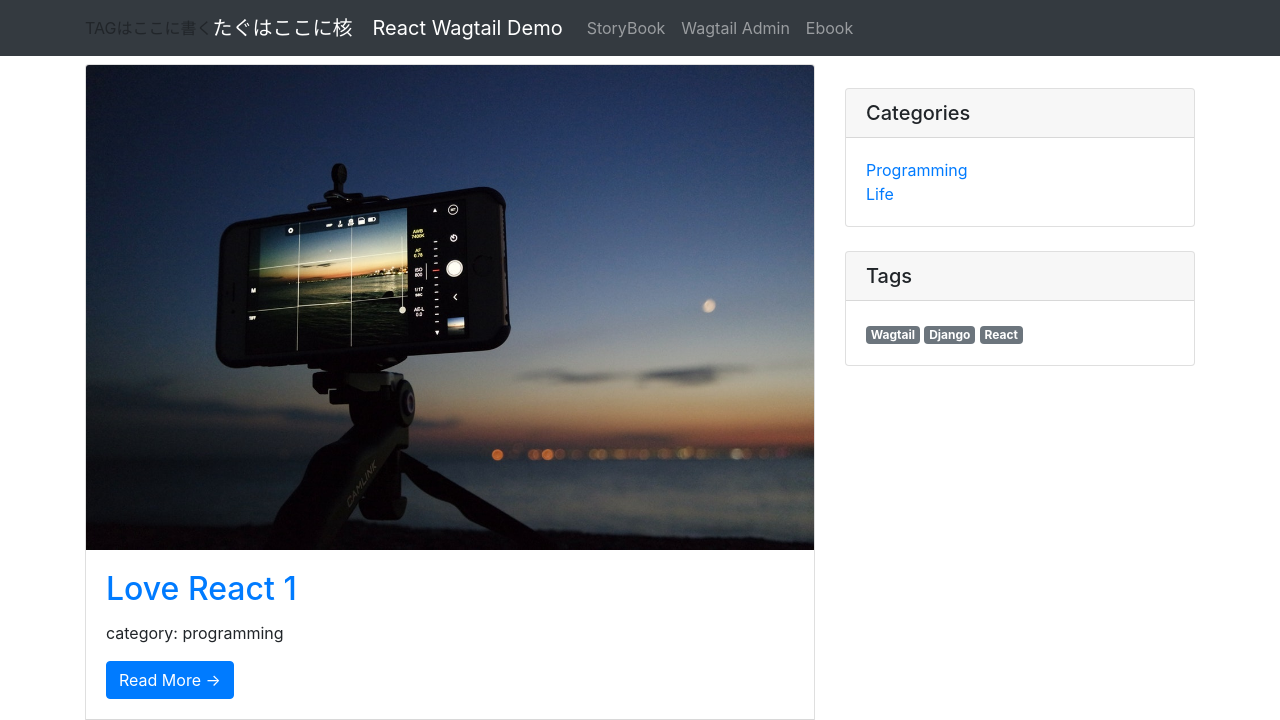
Test case: Test Tag Link
Click the link "React". click: click(1001, 333)
box: [980,323,1023,343]
(page scrolled)
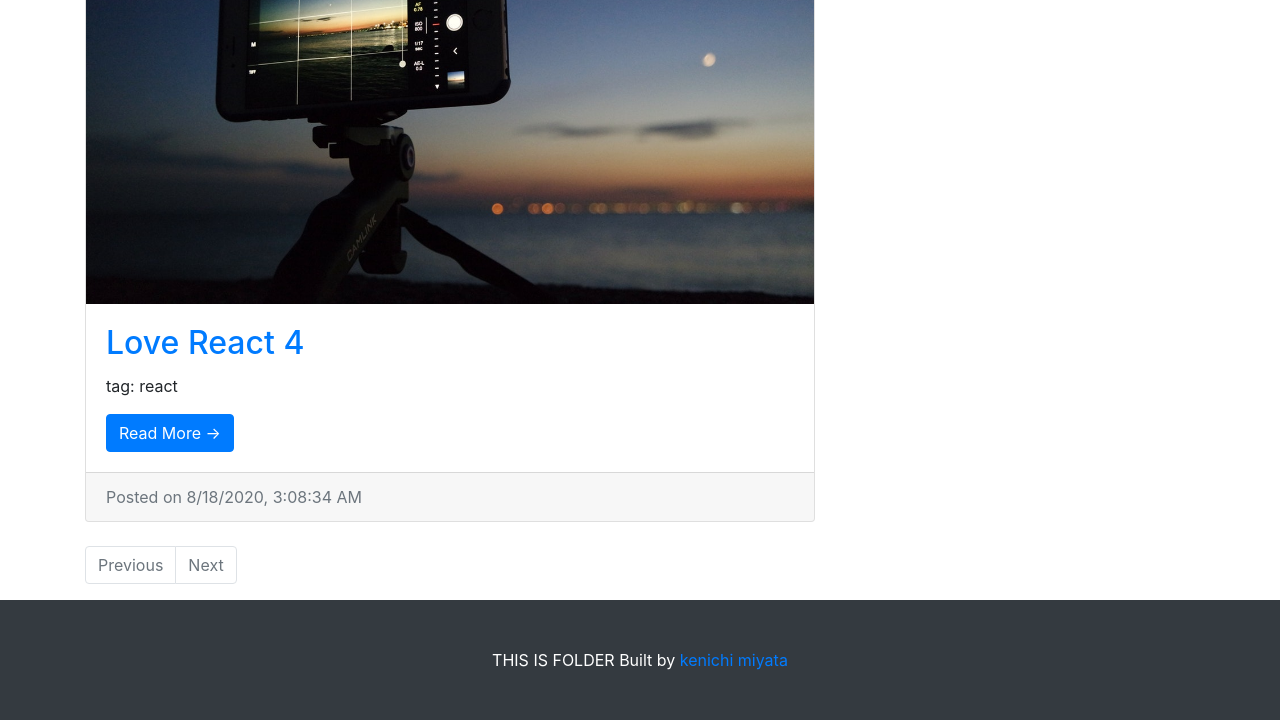
Now the link "Love React 4" is shown, box [106,323,304,362]
